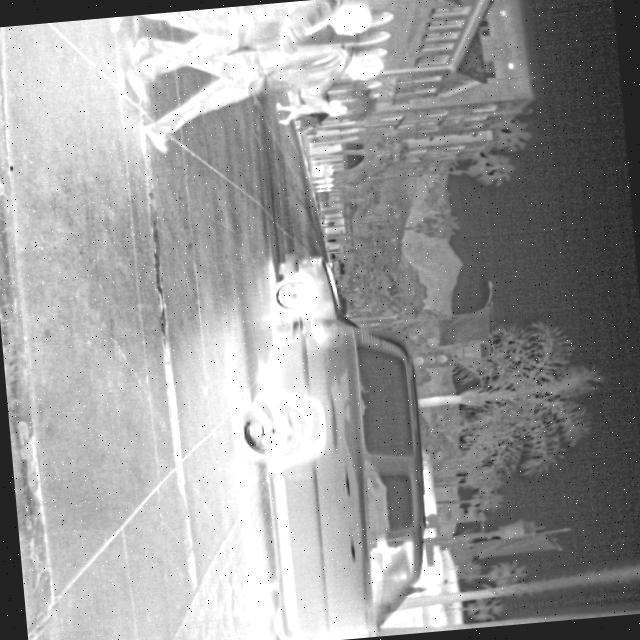Pedestrian: (124, 17, 386, 158), (107, 0, 376, 104), (271, 94, 343, 128)
Vehicle: (222, 303, 441, 640), (262, 250, 360, 344)
